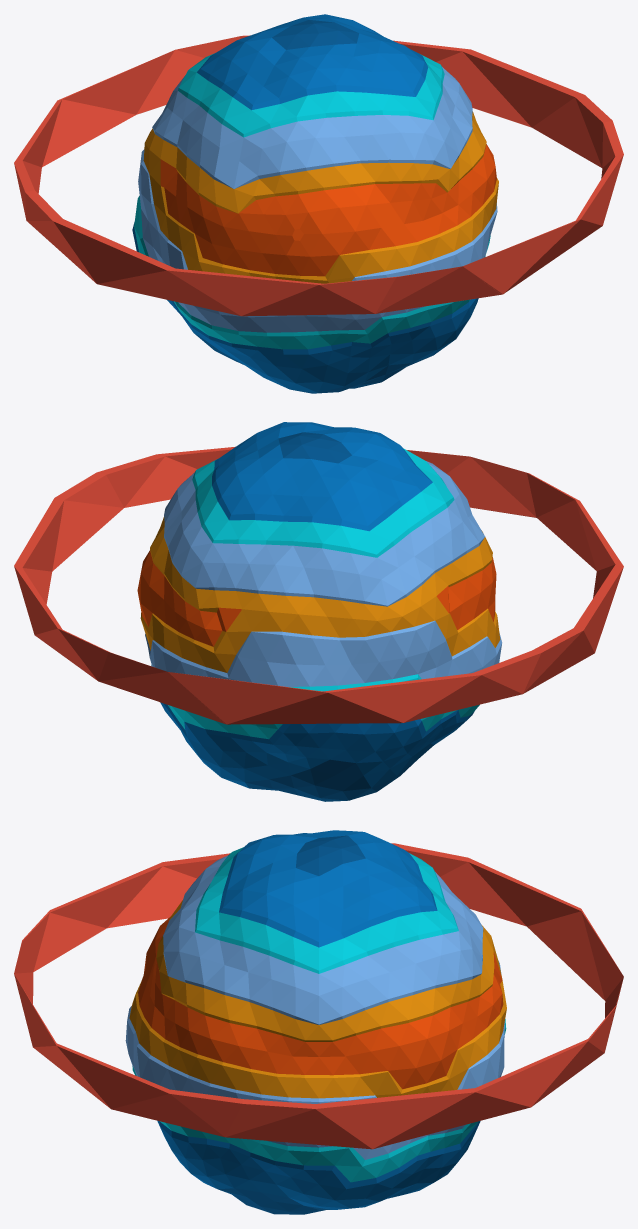
File: YuzukluGezegen.fbx
The picture shows the model from 3 angles, top to bottom: view 1: azimuth 30°, elevation 25°; view 2: azimuth 150°, elevation 25°; view 3: azimuth 270°, elevation 25°; orthographic projection. The views are drawn at different scales.
Parts seen in each view (by area): view 1: Icosphere, Ring; view 2: Icosphere, Ring; view 3: Icosphere, Ring.
Boxes of the visible parts, x1=… form: Icosphere: x1=132, y1=14, x2=498, y2=393; Ring: x1=14, y1=35, x2=623, y2=316; Icosphere: x1=137, y1=422, x2=502, y2=801; Ring: x1=14, y1=446, x2=623, y2=724; Icosphere: x1=125, y1=830, x2=506, y2=1214; Ring: x1=14, y1=843, x2=623, y2=1149.
Bounding box in the file's own units: 365 × 225 × 352.
